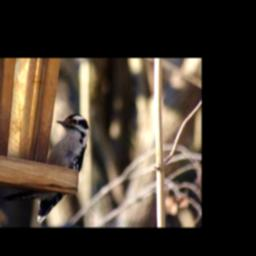Woodpecker: (2, 113, 90, 222)
